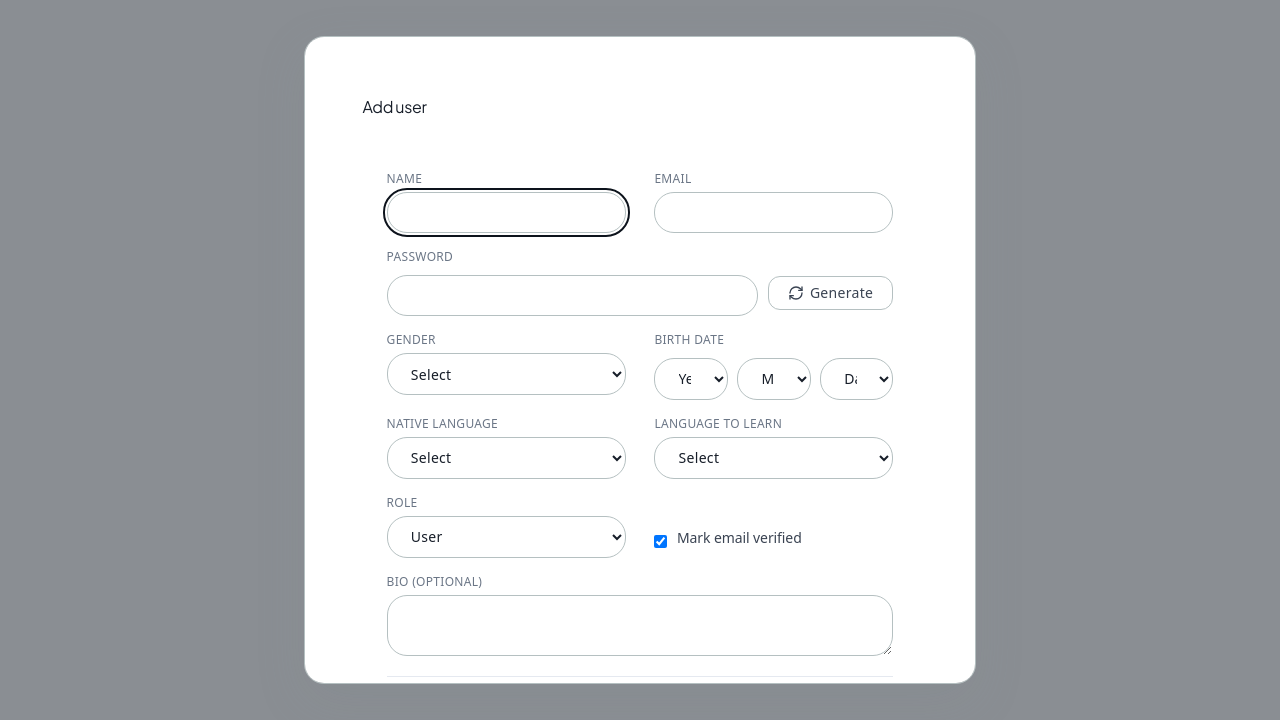
generates a 14-character password into the field
The image size is (1280, 720).
Click the button with test id "register-user-generate" at (831, 293), box left=768, top=276, right=893, bottom=310
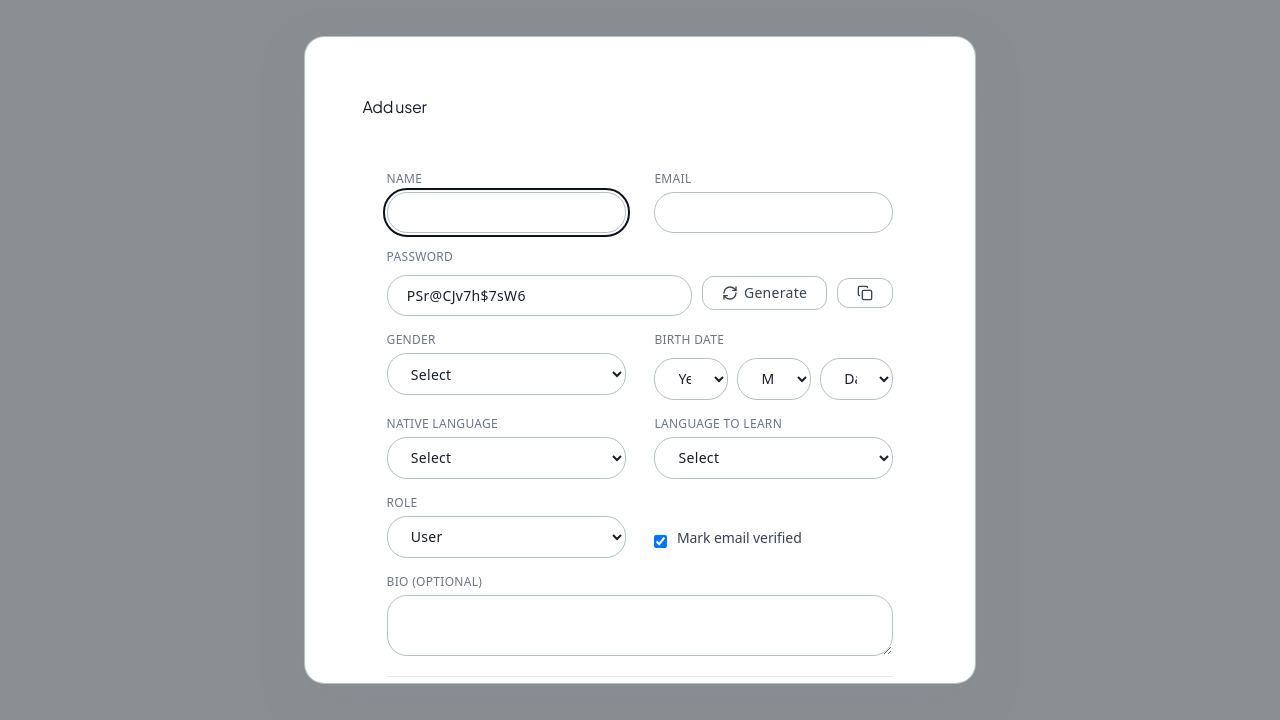
Check: the button with test id "register-user-copy" is shown, box left=837, top=278, right=893, bottom=308
